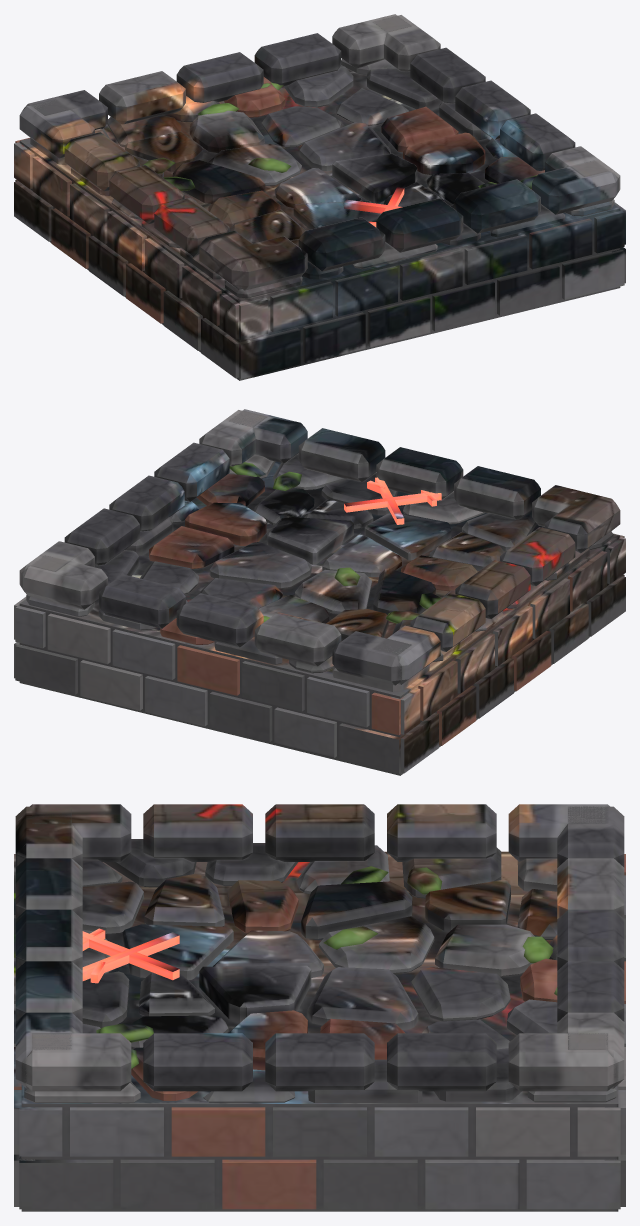
The model's file is war_engine_plate.glb.
The picture shows the model from 3 angles, top to bottom: view 1: azimuth 30°, elevation 25°; view 2: azimuth 150°, elevation 25°; view 3: azimuth 270°, elevation 25°; orthographic projection. The views are drawn at different scales.
Visible parts, largest first — view 1: war_engine_plate; view 2: war_engine_plate; view 3: war_engine_plate.
Part boxes in pixels (<box>): war_engine_plate: <box>14,14,625,380</box>; war_engine_plate: <box>14,409,625,775</box>; war_engine_plate: <box>14,804,625,1211</box>.
Size of the model in its own units: 2.01 by 0.57 by 2.01.
Materials: 1 (1 with a texture image).
